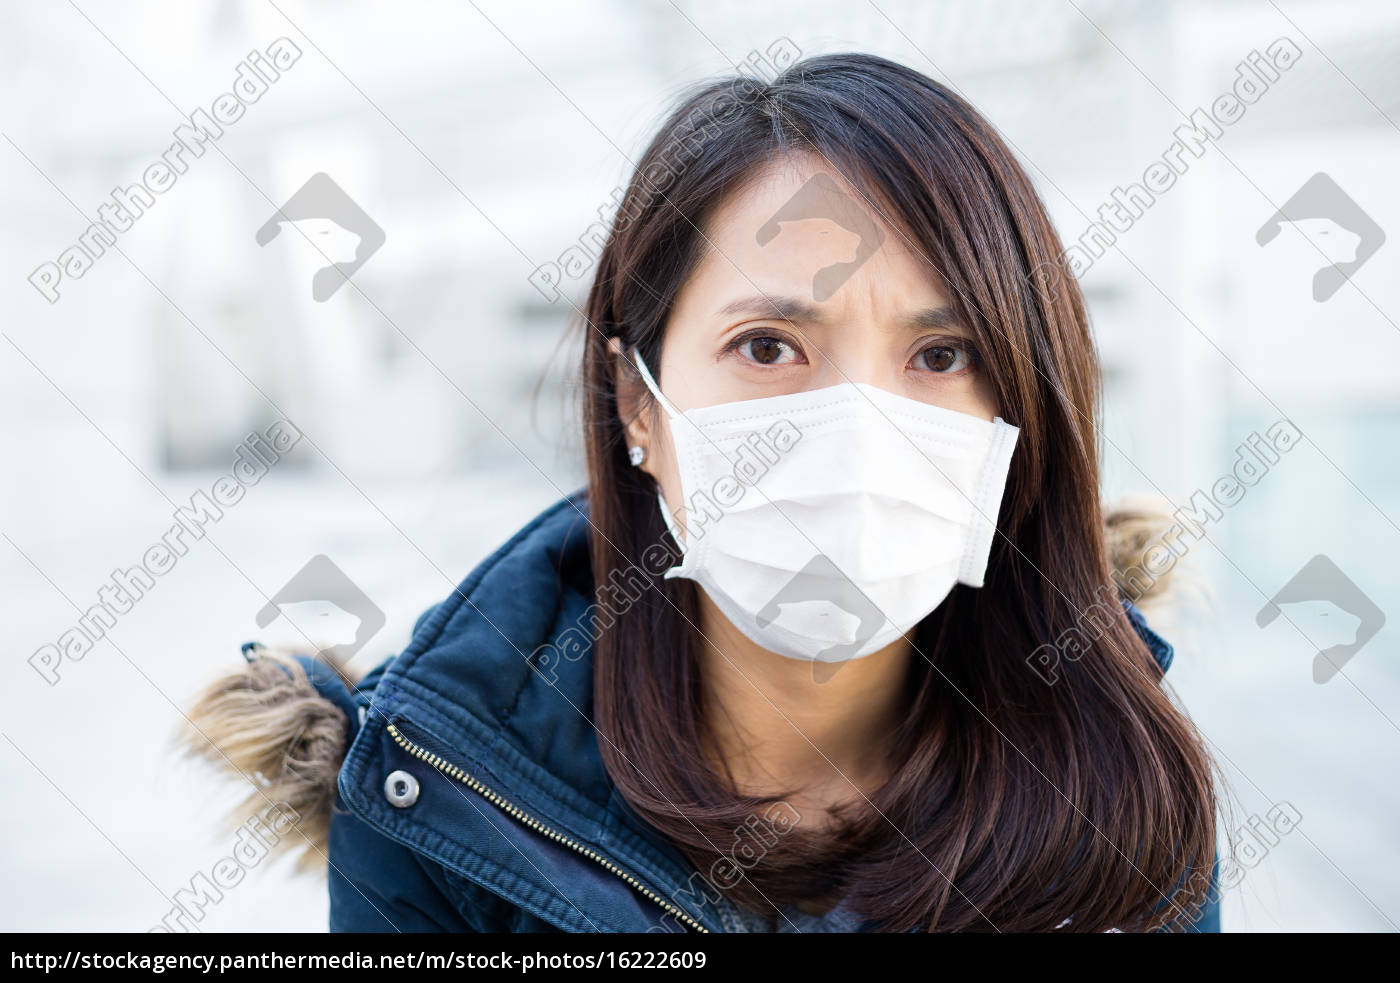with_mask: (623, 109, 1113, 695)
